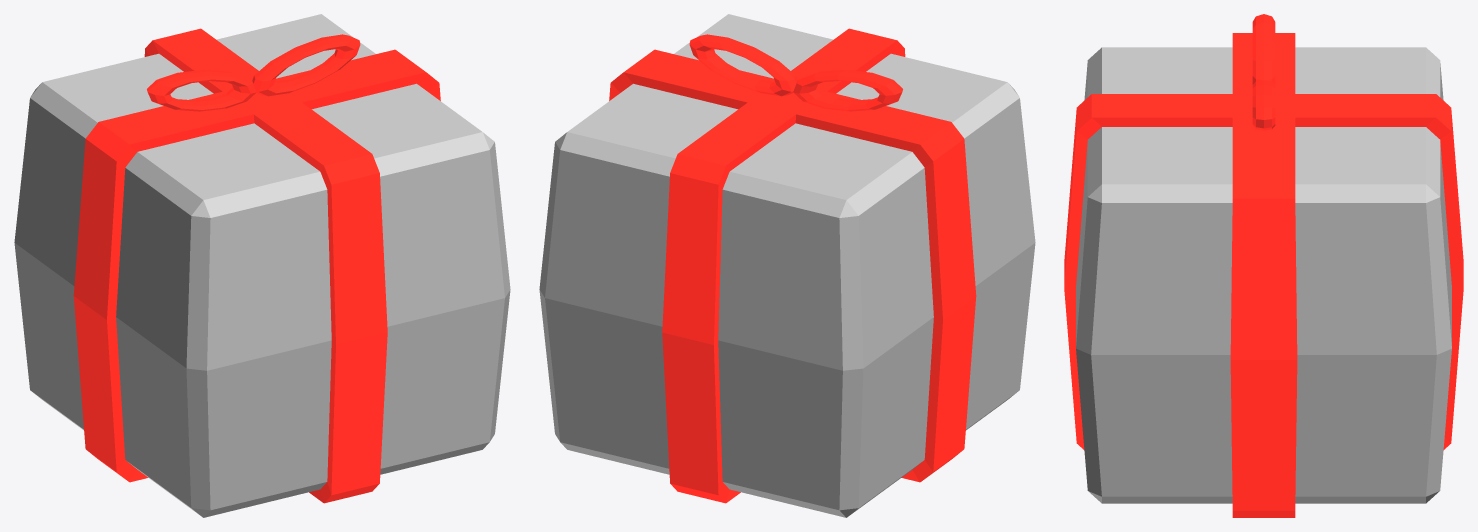
The model's file is podarok.fbx.
3 views of the same model, side by side, from view 1: azimuth 30°, elevation 25°; view 2: azimuth 150°, elevation 25°; view 3: azimuth 270°, elevation 25° (orthographic).
Visible parts, largest first — view 1: подарок.003; view 2: подарок.003; view 3: подарок.003.
Boxes of the visible parts, x1=… form: подарок.003: x1=14, y1=14, x2=510, y2=517; подарок.003: x1=539, y1=14, x2=1035, y2=517; подарок.003: x1=1064, y1=14, x2=1463, y2=517.
Size of the model in its own units: 51.7 by 54.54 by 51.7.
